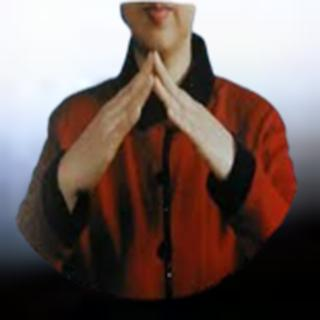HOME: (68, 48, 237, 192)
